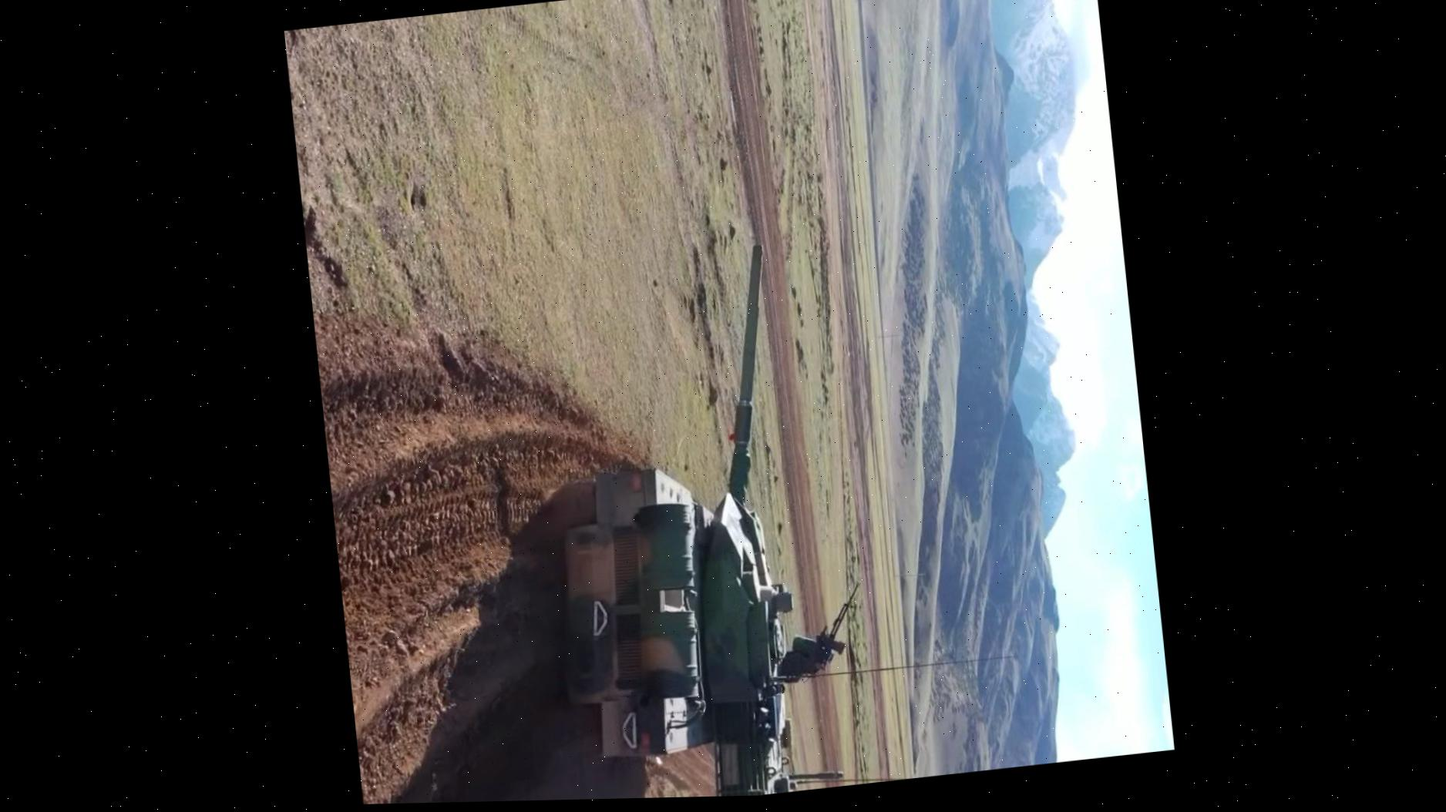tank: (507, 210, 875, 801)
